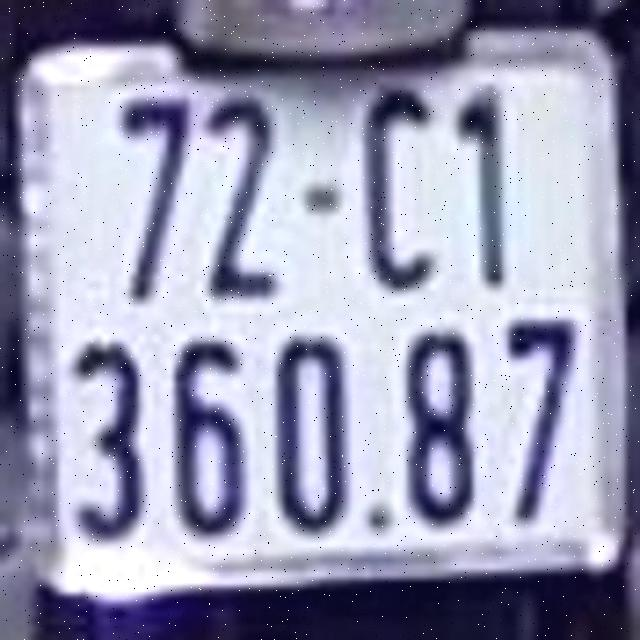0: (272, 330, 348, 534)
1: (454, 80, 518, 288)
2: (204, 91, 284, 302)
3: (66, 335, 148, 543)
6: (171, 333, 248, 537)
7: (502, 308, 582, 524), (114, 92, 191, 305)
8: (403, 323, 478, 527)
C: (359, 85, 440, 290)
